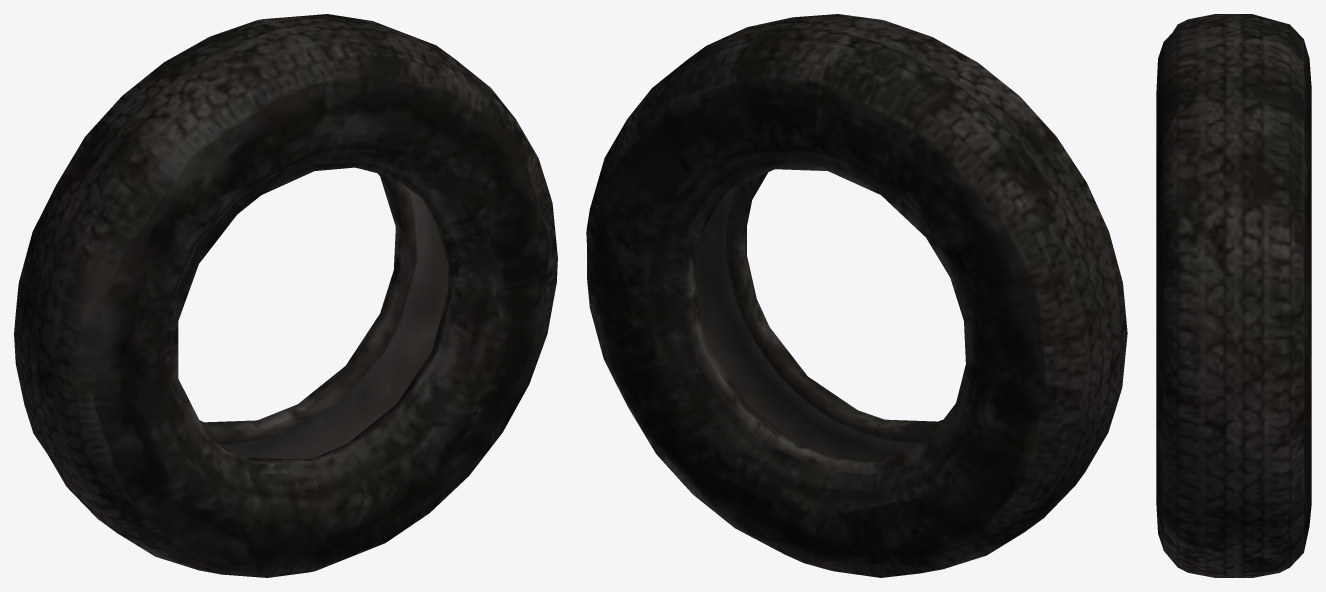
Rendered from old_tyre.710007a3.glb.
3 views of the same model, side by side, from view 1: azimuth 30°, elevation 25°; view 2: azimuth 150°, elevation 25°; view 3: azimuth 270°, elevation 25° (orthographic). The views are drawn at different scales.
Visible parts, largest first — view 1: old_tyre; view 2: old_tyre; view 3: old_tyre.
Boxes of the visible parts, x1,y1,x2,y2 form: old_tyre: (14,14,557,577); old_tyre: (586,14,1127,577); old_tyre: (1156,14,1311,577).
Size of the model in its own units: 0.6 by 0.6 by 0.165.
Materials: 1 (1 with a texture image).
